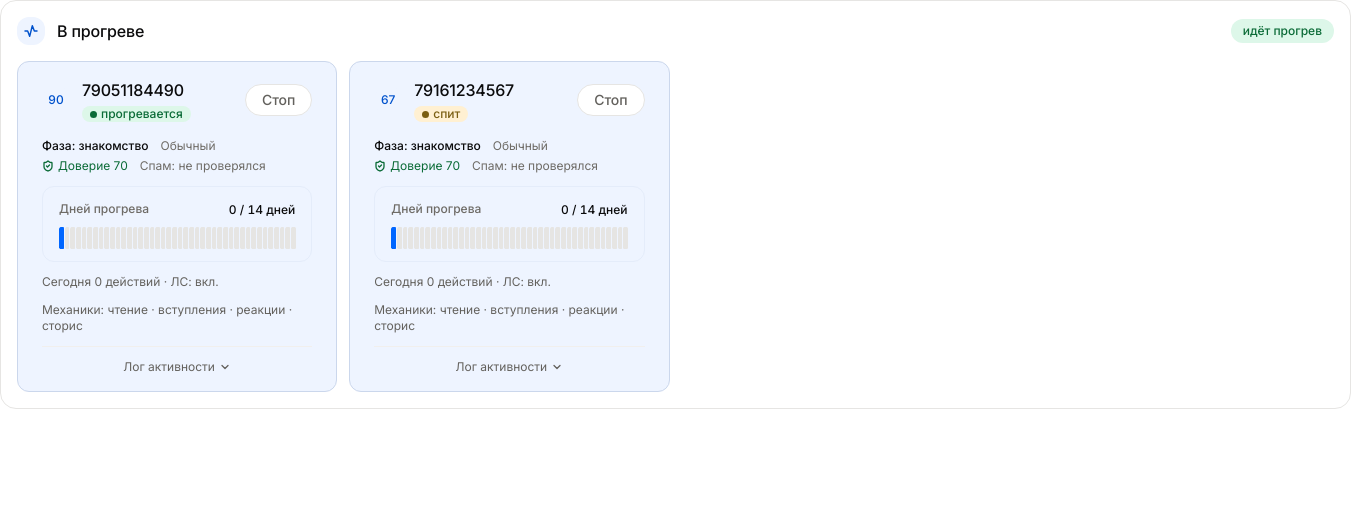
Test: expanding a card fetches that account real activity log
The image size is (1366, 510).
Click the button "Лог активности" below "прогревается" at (177, 360), box 42,346 -> 312,375
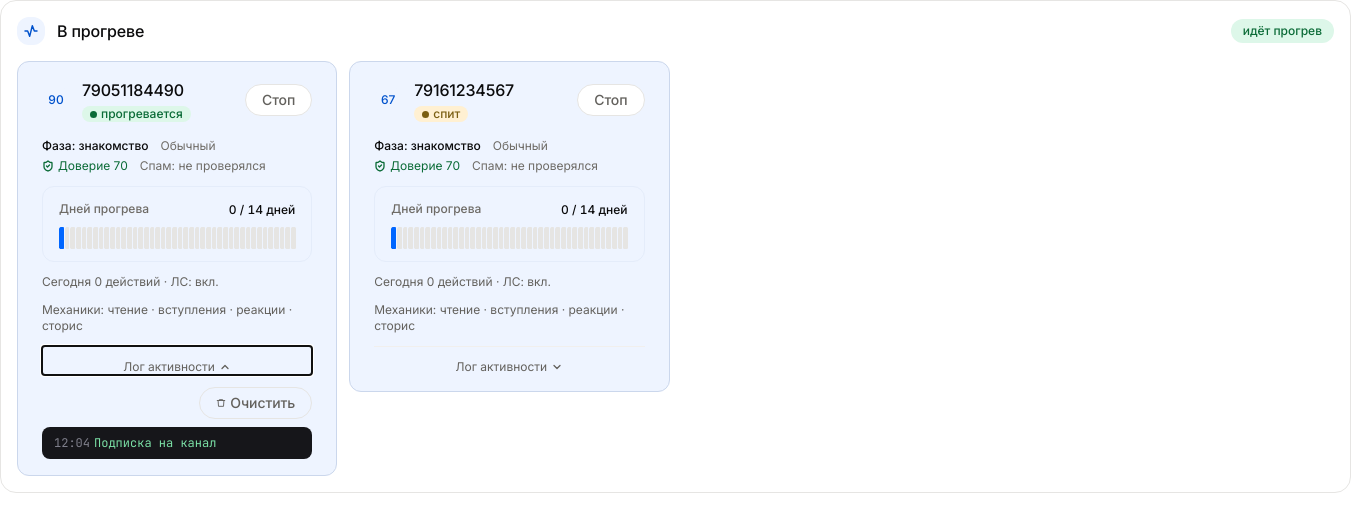
expect the text "Подписка на канал" is shown: met, box 94,435 -> 216,451
